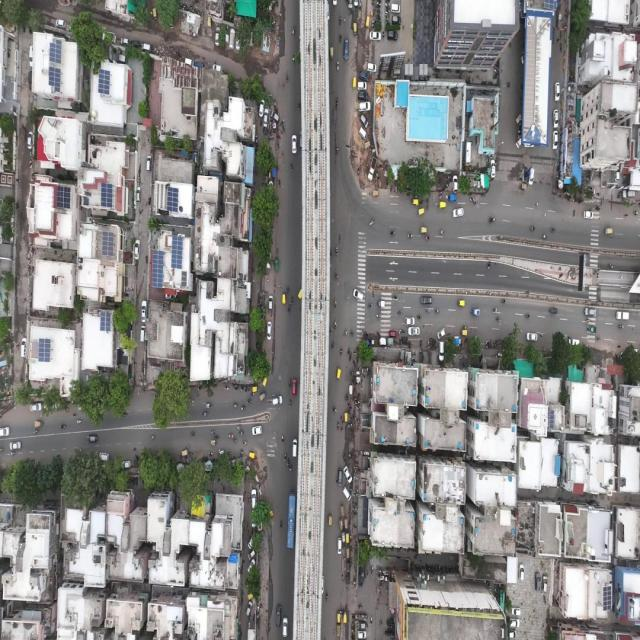3W: (334, 366, 343, 386), (546, 304, 558, 318), (456, 294, 468, 307), (603, 222, 614, 236), (33, 416, 44, 429), (344, 572, 351, 590), (342, 517, 350, 532), (438, 198, 446, 213), (344, 543, 351, 560), (250, 382, 258, 396), (458, 329, 468, 340), (339, 501, 345, 519), (351, 73, 357, 91), (351, 20, 357, 38), (327, 514, 333, 531), (247, 448, 256, 459), (419, 226, 428, 237), (261, 374, 268, 388), (342, 608, 348, 624), (280, 292, 286, 308), (344, 532, 351, 545), (343, 410, 349, 425), (345, 560, 351, 575), (417, 208, 426, 218), (364, 13, 370, 28), (412, 196, 418, 210), (372, 188, 381, 197), (336, 612, 342, 624), (181, 448, 188, 457)
Bus: (286, 492, 296, 549)
Cars: (614, 307, 630, 324), (583, 303, 599, 319), (289, 130, 299, 155), (139, 300, 147, 328), (356, 128, 372, 142), (619, 187, 636, 200), (30, 399, 43, 415), (270, 392, 283, 408), (370, 26, 383, 42), (356, 97, 372, 110), (344, 463, 353, 486), (52, 18, 69, 30), (256, 98, 266, 118), (274, 601, 281, 629), (113, 49, 128, 62), (352, 288, 364, 304), (406, 324, 422, 336), (418, 295, 434, 307), (490, 156, 497, 182), (358, 68, 372, 81), (343, 36, 350, 62), (518, 561, 526, 583), (281, 613, 288, 638), (250, 425, 264, 437), (510, 602, 522, 616), (508, 616, 520, 630), (404, 314, 416, 328), (452, 206, 466, 218), (247, 560, 256, 578), (250, 486, 257, 509), (554, 81, 561, 104), (583, 206, 593, 222), (227, 28, 235, 48), (134, 236, 140, 262), (386, 28, 399, 40), (356, 80, 369, 92), (210, 61, 222, 74), (215, 21, 221, 47), (525, 331, 539, 342), (273, 256, 280, 278), (360, 111, 368, 130), (356, 90, 371, 100), (27, 43, 33, 68), (552, 129, 559, 150), (20, 336, 26, 360), (438, 338, 444, 362), (270, 108, 279, 124), (0, 427, 11, 440), (8, 442, 22, 452), (87, 430, 97, 444), (533, 570, 540, 590), (26, 71, 33, 91), (542, 570, 548, 593), (246, 534, 253, 553), (529, 167, 536, 186), (98, 451, 110, 462), (266, 318, 272, 340), (356, 619, 367, 631), (568, 335, 580, 346), (507, 627, 517, 640), (366, 61, 376, 74), (292, 437, 298, 458), (344, 483, 351, 501), (553, 108, 559, 129), (26, 128, 32, 149), (246, 550, 256, 562), (291, 376, 297, 396), (337, 536, 343, 556), (390, 12, 402, 22), (194, 58, 204, 70), (142, 42, 154, 52), (338, 466, 343, 489), (264, 109, 270, 128), (128, 37, 142, 45), (358, 629, 368, 640), (436, 326, 446, 337), (246, 601, 252, 619), (452, 173, 458, 191), (389, 3, 401, 12), (118, 37, 130, 46), (136, 187, 142, 205), (515, 137, 523, 150), (139, 324, 144, 344), (146, 154, 151, 174), (121, 458, 130, 469), (298, 128, 302, 151), (387, 329, 398, 337), (183, 57, 194, 65), (268, 292, 272, 312)
LCV: (366, 153, 377, 182), (448, 192, 458, 205), (376, 297, 386, 308), (588, 324, 597, 333)
M2W: (331, 95, 340, 115), (390, 289, 400, 304), (332, 61, 341, 76), (288, 158, 295, 176), (57, 422, 69, 432), (336, 32, 344, 47), (291, 46, 297, 66), (330, 402, 338, 416), (330, 338, 338, 352), (148, 431, 158, 442), (284, 71, 291, 85), (230, 401, 238, 413), (334, 145, 342, 157), (367, 300, 374, 313), (200, 409, 209, 419), (204, 399, 214, 408), (222, 384, 231, 394), (396, 309, 406, 318), (338, 15, 344, 30), (489, 214, 499, 223), (540, 234, 551, 242), (334, 297, 340, 311), (334, 244, 340, 258), (389, 228, 396, 240), (235, 420, 244, 429), (245, 398, 254, 407), (438, 227, 447, 236), (226, 430, 234, 440), (278, 516, 283, 532), (238, 404, 246, 414), (329, 322, 334, 338), (333, 267, 338, 283), (406, 231, 414, 241), (289, 294, 295, 307), (350, 327, 356, 340), (290, 22, 295, 37), (9, 451, 18, 459), (74, 419, 82, 428), (190, 428, 198, 437), (282, 453, 288, 465), (339, 345, 345, 357), (343, 326, 349, 338), (207, 449, 215, 458), (285, 284, 291, 296), (374, 313, 382, 322), (325, 590, 330, 604), (530, 219, 535, 233), (278, 431, 284, 442), (287, 304, 293, 315), (346, 347, 352, 358), (524, 310, 530, 321), (500, 296, 508, 304), (69, 412, 78, 419), (368, 219, 375, 228), (415, 313, 422, 322), (434, 308, 441, 317), (549, 224, 556, 233), (296, 99, 301, 111), (32, 429, 40, 436), (210, 428, 216, 437), (238, 428, 244, 437), (424, 233, 430, 242), (244, 436, 248, 449), (334, 319, 338, 332), (426, 304, 431, 314), (336, 420, 340, 432), (496, 316, 501, 325), (233, 436, 237, 445), (289, 464, 292, 476), (492, 307, 498, 313), (286, 454, 289, 465)
